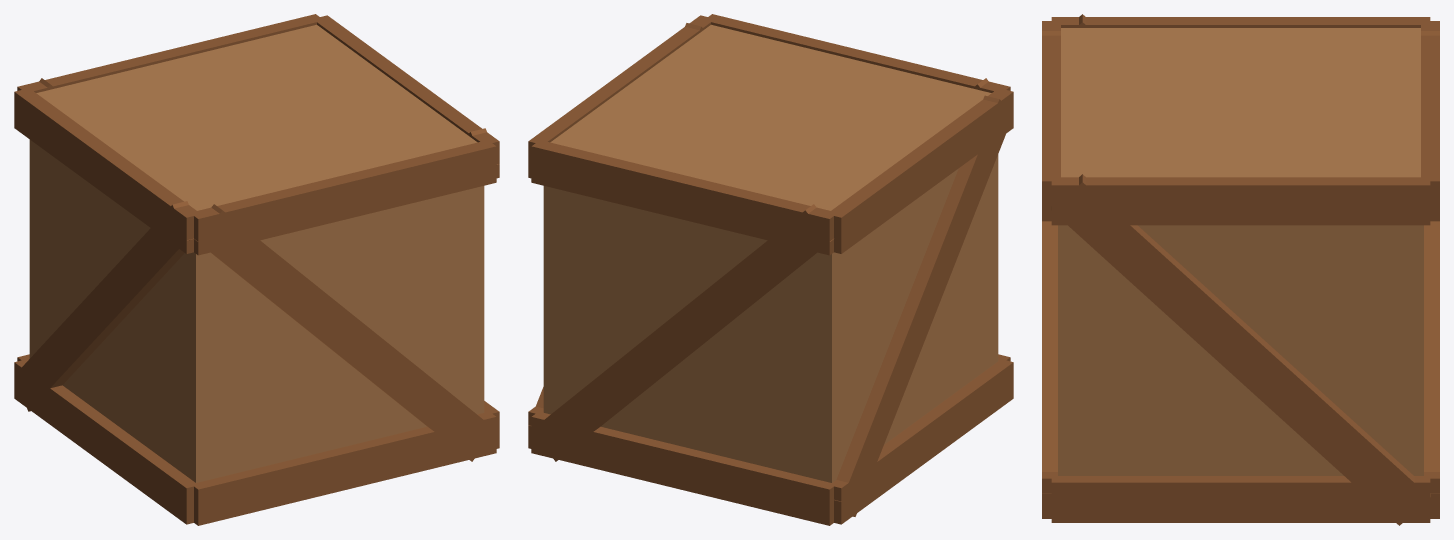
Rendered from crate.glb.
The picture shows the model from 3 angles, left to right: view 1: azimuth 30°, elevation 25°; view 2: azimuth 150°, elevation 25°; view 3: azimuth 270°, elevation 25°; orthographic projection. The views are drawn at different scales.
Parts seen in each view (by area): view 1: props/crate; view 2: props/crate; view 3: props/crate.
Part boxes in pixels (x1,y1,x2,y2): props/crate: (14,14,499,525); props/crate: (528,14,1013,525); props/crate: (1042,14,1439,525).
Bounding box in the file's own units: 0.63 × 0.601 × 0.63.
